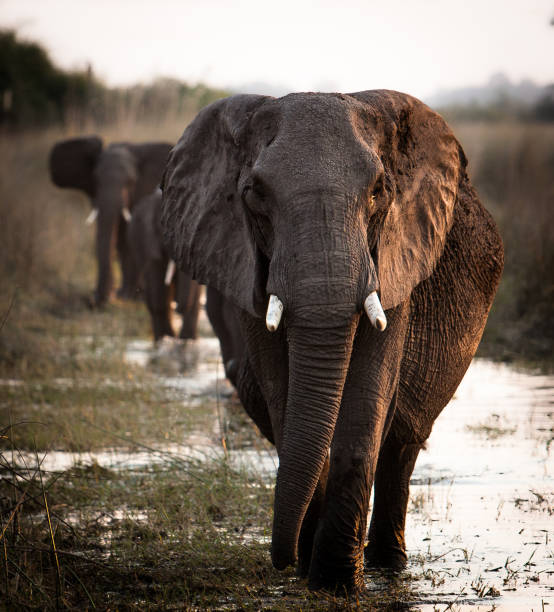africanelephant: (225, 103, 424, 364)
